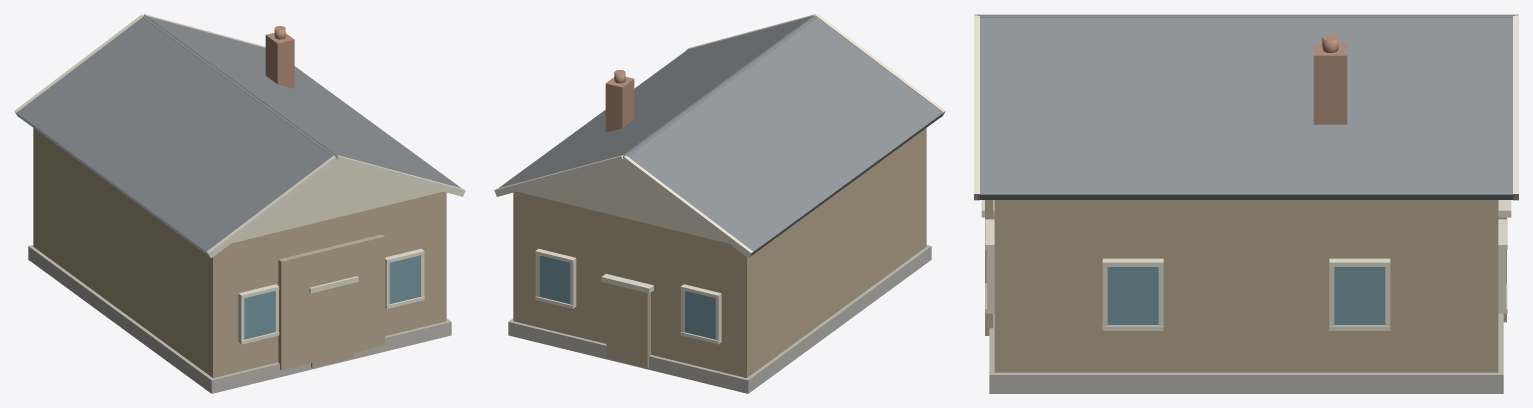
The model's file is tyne-barn_lod1.glb.
The picture shows the model from 3 angles, left to right: view 1: azimuth 30°, elevation 25°; view 2: azimuth 150°, elevation 25°; view 3: azimuth 270°, elevation 25°; orthographic projection. The views are drawn at different scales.
Visible parts, largest first — view 1: RF_Body, RF_Roof.001, RF_BarnDoors, RF_Roof, RF_Foundation, RF_Gable, RF_Chimney, RF_Vergeband.001, RF_Window.002, RF_Window.001, RF_Vergeband.003, RF_Ridge (+1 smaller); view 2: RF_Body, RF_Roof.001, RF_Roof, RF_Foundation, RF_Gable.001, RF_Door, RF_Chimney, RF_Vergeband.002, RF_Window.004, RF_Window.003, RF_Vergeband, RF_Ridge (+2 smaller); view 3: RF_Roof, RF_Body, RF_Foundation, RF_Window.005, RF_Window, RF_Chimney, RF_Ridge, RF_Vergeband, RF_Vergeband.003, RF_WindowFrame.004, RF_WindowFrame.008, RF_WindowSill.010 (+3 smaller).
Part boxes in pixels (<box>): RF_Body: <box>33,128,446,377</box>; RF_Roof.001: <box>16,16,333,256</box>; RF_BarnDoors: <box>278,234,385,370</box>; RF_Roof: <box>145,16,461,188</box>; RF_Foundation: <box>28,245,451,393</box>; RF_Gable: <box>231,163,442,243</box>; RF_Chimney: <box>265,32,294,88</box>; RF_Vergeband.001: <box>207,155,338,258</box>; RF_Window.002: <box>389,255,420,304</box>; RF_Window.001: <box>244,291,275,339</box>; RF_Vergeband.003: <box>336,155,465,196</box>; RF_Ridge: <box>143,15,336,157</box>; RF_Body: <box>513,128,926,377</box>; RF_Roof.001: <box>626,16,942,256</box>; RF_Roof: <box>498,15,814,188</box>; RF_Foundation: <box>508,245,931,393</box>; RF_Gable.001: <box>517,163,728,243</box>; RF_Door: <box>606,283,650,367</box>; RF_Chimney: <box>605,76,634,132</box>; RF_Vergeband.002: <box>621,155,752,258</box>; RF_Window.004: <box>539,255,570,304</box>; RF_Window.003: <box>684,291,715,339</box>; RF_Vergeband: <box>494,155,623,196</box>; RF_Ridge: <box>623,15,816,157</box>; RF_Roof: <box>978,16,1514,199</box>; RF_Body: <box>994,200,1498,372</box>; RF_Foundation: <box>989,313,1503,393</box>; RF_Window.005: <box>1107,267,1158,325</box>; RF_Window: <box>1334,267,1385,325</box>; RF_Chimney: <box>1313,44,1347,124</box>; RF_Ridge: <box>977,14,1515,17</box>; RF_Vergeband: <box>1513,16,1518,200</box>; RF_Vergeband.003: <box>974,16,979,200</box>; RF_WindowFrame.004: <box>986,243,994,313</box>; RF_WindowFrame.008: <box>1498,243,1506,313</box>; RF_WindowSill.010: <box>1102,258,1163,266</box>.
Bounding box in the file's own units: 9.91 × 8.47 × 12.98.
